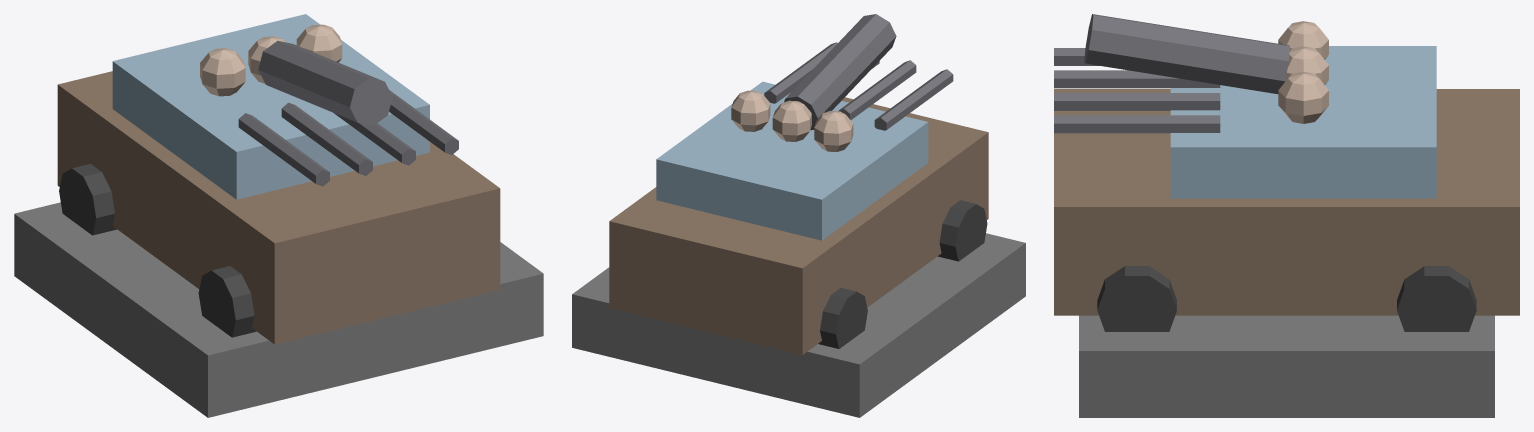
File: orc_warrig.glb
3 views of the same model, side by side, from view 1: azimuth 30°, elevation 25°; view 2: azimuth 150°, elevation 25°; view 3: azimuth 270°, elevation 25° (orthographic). The views are drawn at different scales.
Parts seen in each view (by area): view 1: TurretMesh, Base, GunsMesh; view 2: TurretMesh, Base, GunsMesh; view 3: TurretMesh, Base, GunsMesh.
Part boxes in pixels (<box>): TurretMesh: <box>57,14,500,344</box>; Base: <box>14,202,543,417</box>; GunsMesh: <box>238,40,458,186</box>; TurretMesh: <box>609,81,988,354</box>; Base: <box>572,233,1025,417</box>; GunsMesh: <box>764,14,953,130</box>; TurretMesh: <box>1054,21,1519,331</box>; Base: <box>1079,315,1494,417</box>; GunsMesh: <box>1054,14,1289,133</box>.
Bounding box in the file's own units: 1.8 × 1.5 × 2.02.
